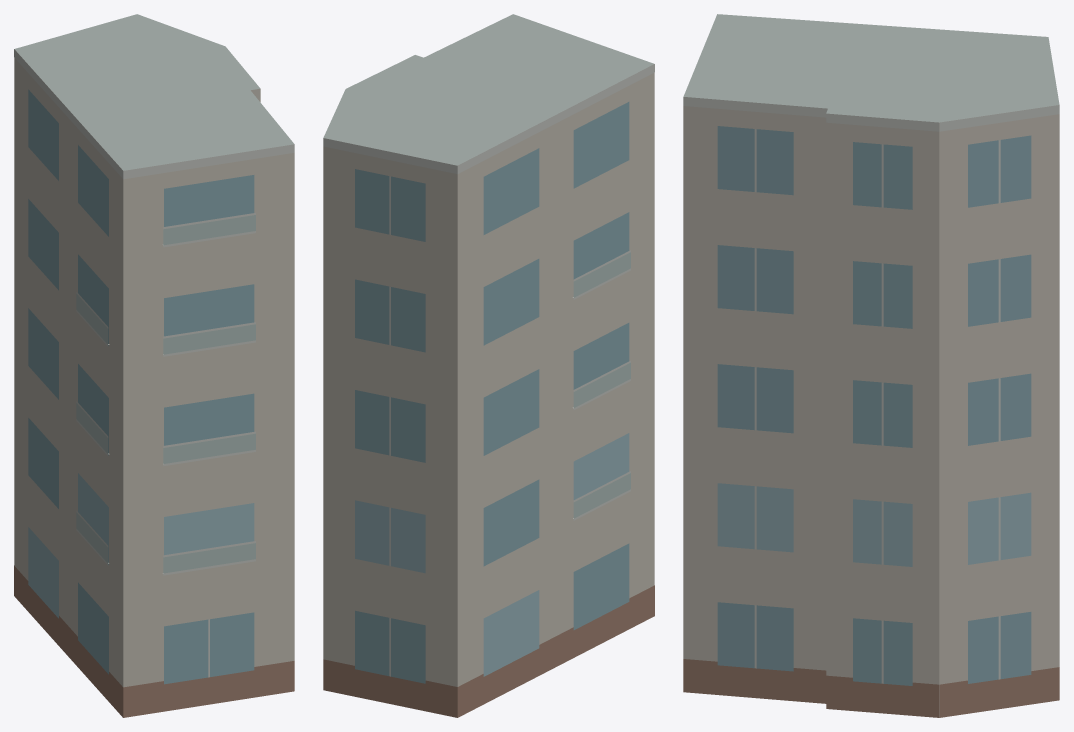
File: survey-upis-32476792.glb
3 renders of one model, left to right at view 1: azimuth 30°, elevation 25°; view 2: azimuth 150°, elevation 25°; view 3: azimuth 270°, elevation 25°, orthographic. The views are drawn at different scales.
Visible parts, largest first — view 1: survey-upis-32476792.tmp; view 2: survey-upis-32476792.tmp; view 3: survey-upis-32476792.tmp.
Boxes of the visible parts, x1,y1,x2,y2 form: survey-upis-32476792.tmp: (14, 14, 294, 717); survey-upis-32476792.tmp: (323, 14, 654, 717); survey-upis-32476792.tmp: (683, 14, 1059, 717).
Size of the model in its own units: 6.19 by 15.8 by 9.06.
